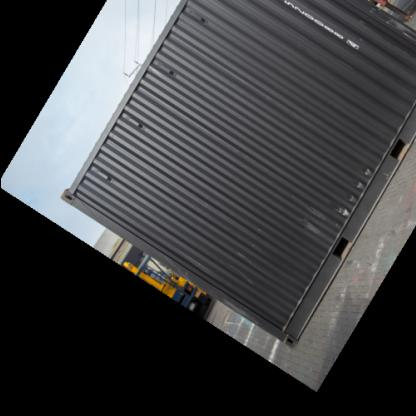Damage: (337, 166, 369, 220)
